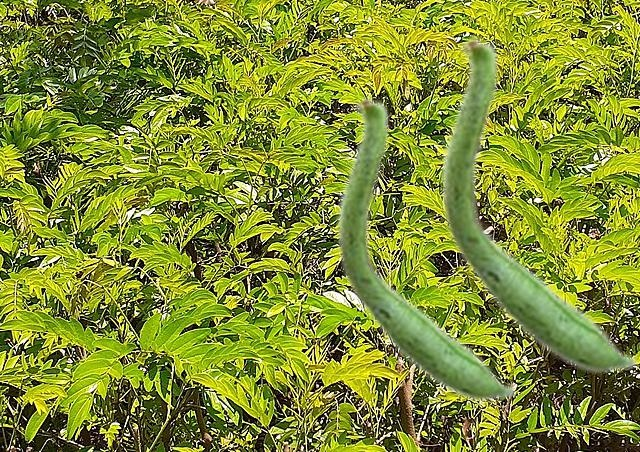french_bean: (440, 33, 638, 374), (336, 93, 516, 402)
